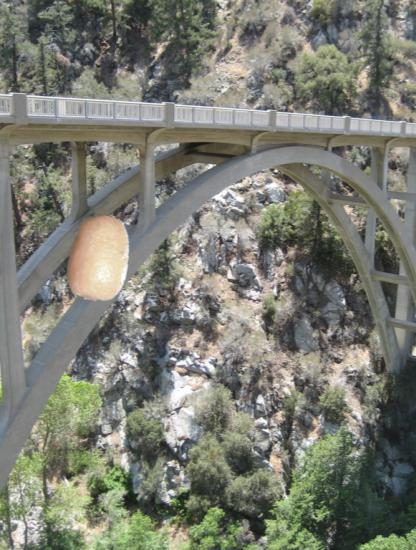Kumquats: (56, 214, 144, 302)
